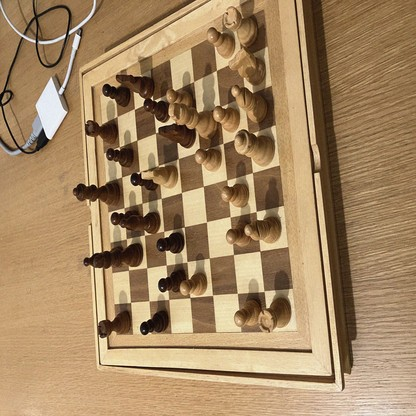bishop_black: (121, 211, 160, 234)
bishop_white: (232, 84, 267, 122), (246, 217, 281, 243)
king_black: (94, 244, 142, 269)
king_white: (168, 105, 218, 139)
knight_black: (116, 73, 154, 98), (158, 125, 195, 149)
knight_white: (228, 50, 266, 84), (142, 167, 178, 189)
pawn_black: (141, 311, 168, 335), (158, 269, 185, 292), (102, 85, 131, 106), (143, 100, 169, 122), (106, 147, 134, 167), (158, 234, 185, 254), (131, 174, 158, 190)
pawn_white: (208, 28, 236, 58), (234, 300, 262, 325), (213, 107, 240, 131), (180, 273, 207, 297), (222, 184, 249, 206), (196, 149, 222, 170), (167, 89, 195, 108), (226, 227, 250, 247)
queen_black: (74, 182, 121, 205)
rock_black: (99, 311, 131, 337), (85, 120, 118, 144)
rock_white: (224, 7, 257, 47), (259, 298, 291, 334)
